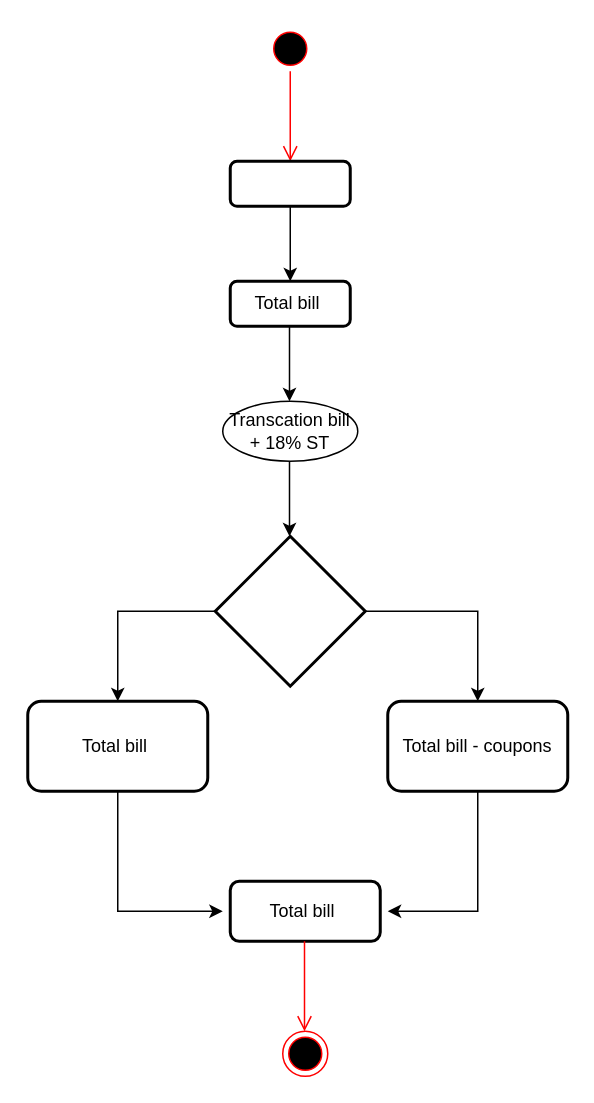
This 594x1103 diagram has some shape labels left out. Each missing label, with the centre of its shape:
add Item: pixel 289 183
Is Coupons applied ?: pixel 289 610
